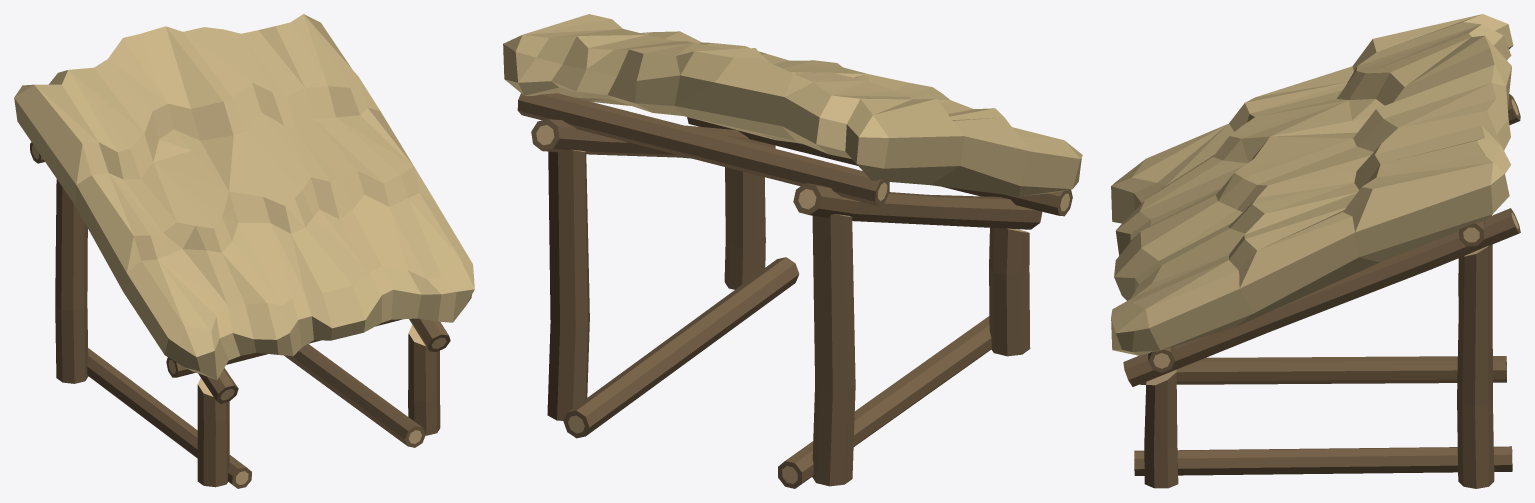
File: rpgpp_ag_shed_wood_02b.fbx
The picture shows the model from 3 angles, left to right: view 1: azimuth 30°, elevation 25°; view 2: azimuth 150°, elevation 25°; view 3: azimuth 270°, elevation 25°; orthographic projection. The views are drawn at different scales.
Visible parts, largest first — view 1: rpgpp_ag_shed_wood_02b; view 2: rpgpp_ag_shed_wood_02b; view 3: rpgpp_ag_shed_wood_02b.
Part boxes in pixels (x1=…): rpgpp_ag_shed_wood_02b: x1=14, y1=14, x2=474, y2=488; rpgpp_ag_shed_wood_02b: x1=503, y1=14, x2=1082, y2=488; rpgpp_ag_shed_wood_02b: x1=1111, y1=14, x2=1520, y2=488.
Size of the model in its own units: 2.66 by 2.72 by 2.75.
